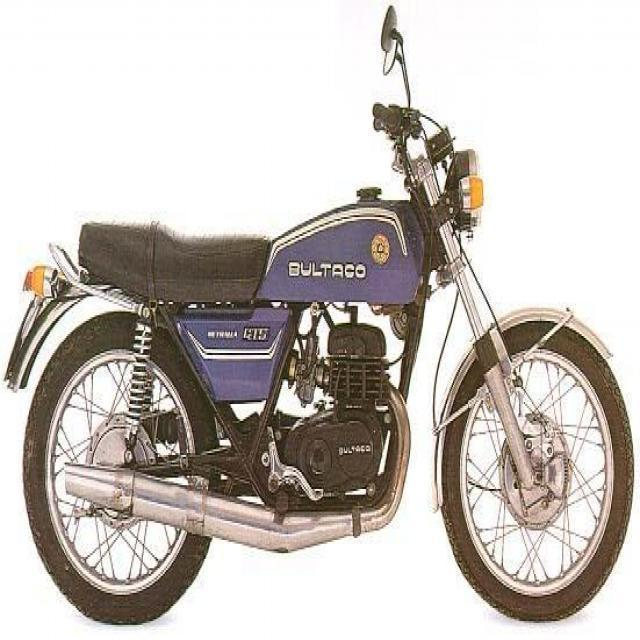Motorcycle: (19, 22, 637, 627)
